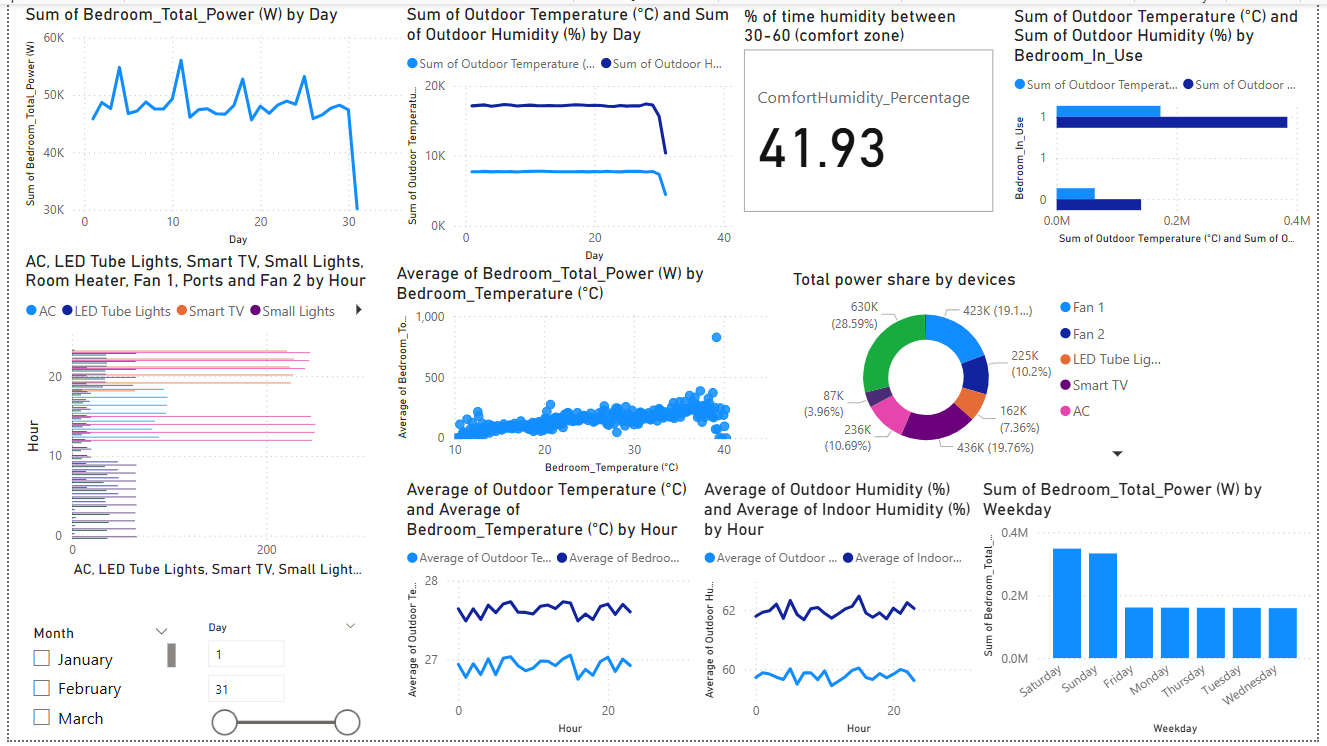

What the dashboard file says about the page in this screenshot:
{"tool":"powerbi","page":{"name":"Bedroom 1","canvas":[1280,720],"ordinal":1},"visuals":[{"type":"lineChart","fields":{"Category":["Sheet1 (2).Timestamp.Variation.Date Hierarchy.Day"],"Y":["Sum(Sheet1 (2).Bedroom_Total_Power (W))"]},"box":[10.5,0,379.3,241.2],"z":0},{"type":"clusteredBarChart","fields":{"Category":["Sheet1 (2).Hour"],"Y":["Avg(Sheet1 (2).AC_Power (W))","Avg(Sheet1 (2).LED_Tube_Lights_Power (W))","Avg(Sheet1 (2).Smart_TV_Power (W))","Avg(Sheet1 (2).Small_Lights_Power (W))","Avg(Sheet1 (2).Room_Heater_Power (W))","Avg(Sheet1 (2).Fan_1_Power (W))","Avg(Sheet1 (2).Ports_Power (W))","Avg(Sheet1 (2).Fan_2_Power (W))"]},"box":[11,240.9,351,325.3],"z":1000},{"type":"scatterChart","fields":{"X":["Sum(Sheet1 (2).Bedroom_Temperature (°C))"],"Y":["Avg(Sheet1 (2).Bedroom_Total_Power (W))"]},"box":[374,253.4,381,211.5],"z":2000},{"type":"lineChart","fields":{"Category":["Sheet1 (2).Timestamp.Variation.Date Hierarchy.Day"],"Y":["Sum(Sheet1 (2).Outdoor Temperature (°C))","Sum(Sheet1 (2).Outdoor Humidity (%))"]},"box":[384.5,0,330.3,256.9],"z":3000},{"type":"slicer","fields":{"Values":["Sheet1 (2).Timestamp.Variation.Date Hierarchy.Month"]},"box":[10.5,601.3,157.3,118.9],"z":4000},{"type":"slicer","fields":{"Values":["Sheet1 (2).Timestamp.Variation.Date Hierarchy.Day"]},"box":[181.8,597.8,169.5,122.3],"z":5000},{"type":"lineChart","fields":{"Y":["Avg(Sheet1 (2).Outdoor Temperature (°C))","Avg(Sheet1 (2).Bedroom_Temperature (°C))"],"Category":["Sheet1 (2).Hour"]},"box":[384.5,464.9,290.1,255.2],"z":6000},{"type":"lineChart","fields":{"Category":["Sheet1 (2).Hour"],"Y":["Avg(Sheet1 (2).Outdoor Humidity (%))","Avg(Sheet1 (2).Indoor Humidity (%))"]},"box":[674.7,464.9,272.7,255.2],"z":7000},{"type":"donutChart","title":"Total power share by devices","fields":{"Y":["Sum(Sheet1 (2).Fan_1_Power (W))","Sum(Sheet1 (2).Fan_2_Power (W))","Sum(Sheet1 (2).LED_Tube_Lights_Power (W))","Sum(Sheet1 (2).Smart_TV_Power (W))","Sum(Sheet1 (2).AC_Power (W))","Sum(Sheet1 (2).Small_Lights_Power (W))","Sum(Sheet1 (2).Room_Heater_Power (W))","Sum(Sheet1 (2).Ports_Power (W))"]},"box":[761.8,259.2,382.7,193.2],"z":9000},{"type":"columnChart","fields":{"Category":["Sheet1 (2).Weekday"],"Y":["Sum(Sheet1 (2).Bedroom_Total_Power (W))"]},"box":[947.3,464.9,332.1,255.2],"z":10000},{"type":"clusteredBarChart","fields":{"Y":["Sum(Sheet1 (2).Outdoor Temperature (°C))","Sum(Sheet1 (2).Outdoor Humidity (%))"],"Category":["Sheet1 (2).Bedroom_In_Use"]},"box":[978.8,1.7,300.6,239.5],"z":11000},{"type":"cardVisual","title":"% of time humidity between 30-60 (comfort zone)","fields":{"Data":["Bedroom 1.ComfortHumidity_Percentage"]},"box":[714.1,1.2,254.3,207.9],"z":11001}]}

Visuals, with their boxes in screenshot pixels (x1, y1, x2, y2), scaled from the page's 1280x720 canvas onto the 1327x746 screenshot:
lineChart - Sheet1 (2).Timestamp.Variation.Date Hierarchy.Day x Sum(Sheet1 (2).Bedroom_Total_Power (W)): x1=11, y1=0, x2=404, y2=250
clusteredBarChart - Sheet1 (2).Hour x Avg(Sheet1 (2).AC_Power (W)): x1=11, y1=250, x2=375, y2=587
scatterChart - Sum(Sheet1 (2).Bedroom_Temperature (°C)) x Avg(Sheet1 (2).Bedroom_Total_Power (W)): x1=388, y1=263, x2=783, y2=482
lineChart - Sheet1 (2).Timestamp.Variation.Date Hierarchy.Day x Sum(Sheet1 (2).Outdoor Temperature (°C)): x1=399, y1=0, x2=741, y2=266
slicer - Sheet1 (2).Timestamp.Variation.Date Hierarchy.Month: x1=11, y1=623, x2=174, y2=745
slicer - Sheet1 (2).Timestamp.Variation.Date Hierarchy.Day: x1=188, y1=619, x2=364, y2=745
lineChart - Avg(Sheet1 (2).Outdoor Temperature (°C)) x Avg(Sheet1 (2).Bedroom_Temperature (°C)): x1=399, y1=482, x2=699, y2=745
lineChart - Sheet1 (2).Hour x Avg(Sheet1 (2).Outdoor Humidity (%)): x1=699, y1=482, x2=982, y2=745
"Total power share by devices" donutChart: x1=790, y1=269, x2=1187, y2=469
columnChart - Sheet1 (2).Weekday x Sum(Sheet1 (2).Bedroom_Total_Power (W)): x1=982, y1=482, x2=1326, y2=745
clusteredBarChart - Sum(Sheet1 (2).Outdoor Temperature (°C)) x Sum(Sheet1 (2).Outdoor Humidity (%)): x1=1015, y1=2, x2=1326, y2=250
"% of time humidity between 30-60 (comfort zone)" cardVisual: x1=740, y1=1, x2=1004, y2=217
